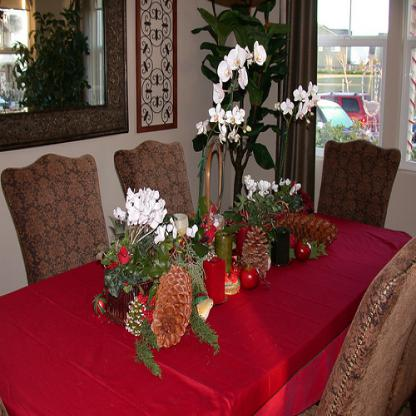car: (320, 89, 381, 136), (315, 99, 356, 142)
chair: (299, 237, 415, 415), (2, 153, 113, 289), (320, 133, 402, 231), (115, 139, 195, 221)
diningtable: (0, 201, 415, 415)
pottedplant: (105, 186, 195, 325)
